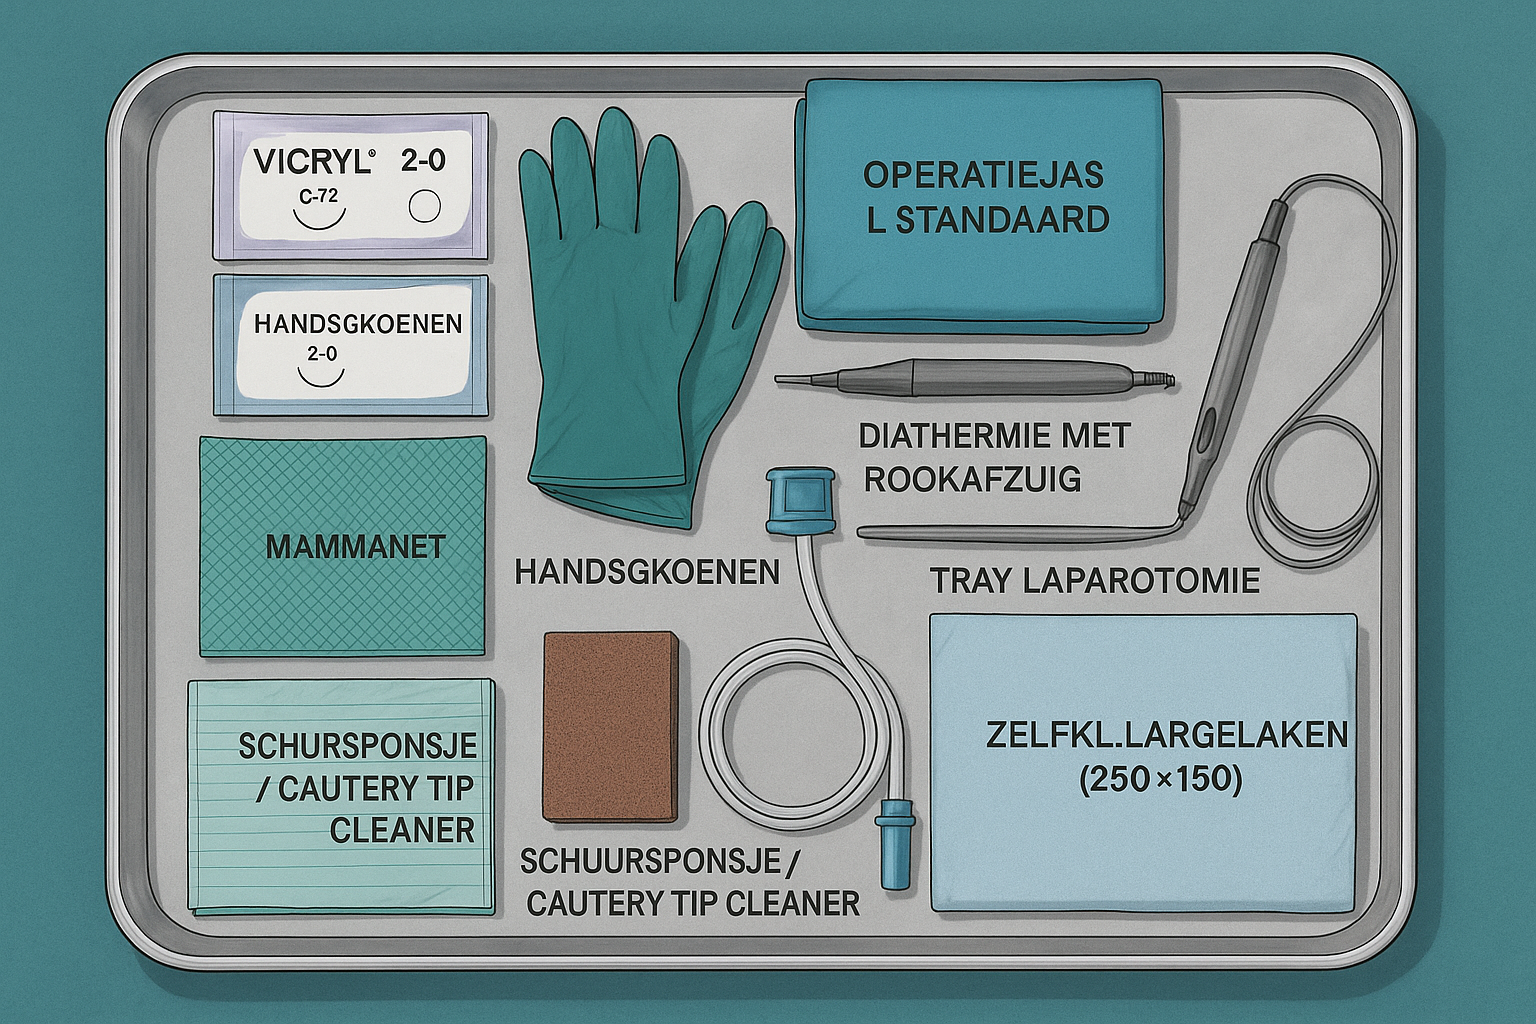diathermie met rookafzuig: (771, 351, 1181, 406)
handschoenen: (213, 273, 490, 415)
mammanet: (195, 433, 490, 654)
operatiejas l standaard: (795, 83, 1165, 328)
schuursponsje / cautery tip cleaner: (186, 679, 497, 914), (542, 630, 677, 831)
vicryl 2-0 fs-1 v443h: (216, 109, 486, 257)
zelfkl.largelaken (250x150): (933, 611, 1353, 910)
